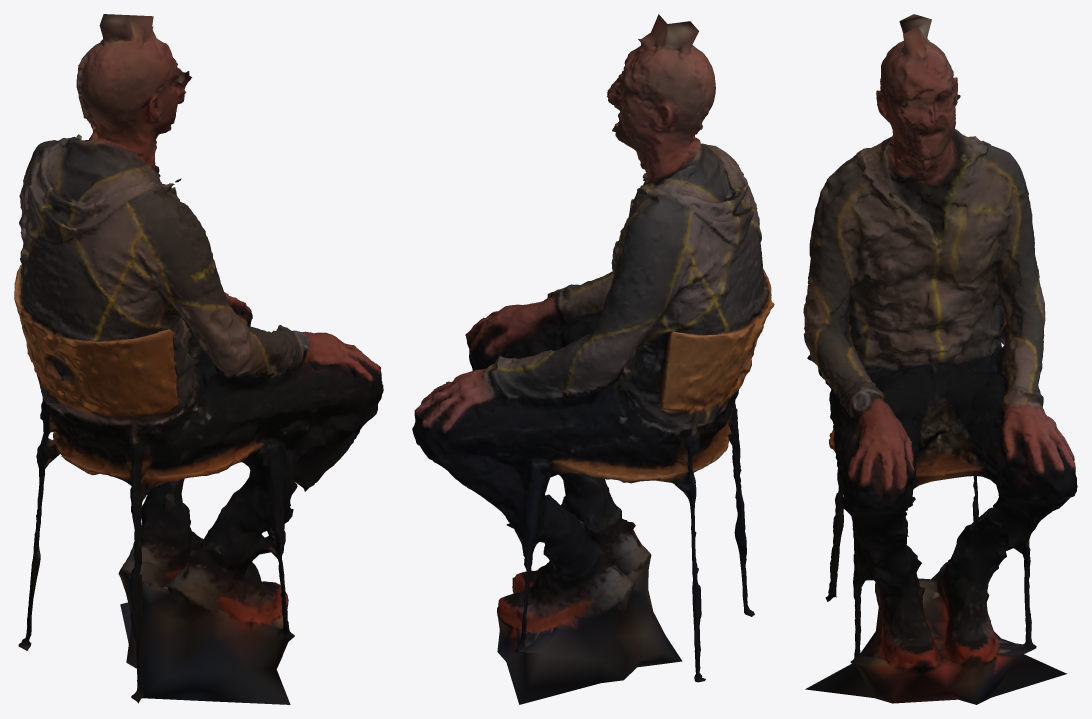
Rendered from asset.glb.
3 renders of one model, left to right at view 1: azimuth 30°, elevation 25°; view 2: azimuth 150°, elevation 25°; view 3: azimuth 270°, elevation 25°, orthographic. The views are drawn at different scales.
Parts seen in each view (by area): view 1: Mesh_0_Part_0; view 2: Mesh_0_Part_0; view 3: Mesh_0_Part_0.
Boxes of the visible parts, x1,y1,x2,y2 form: Mesh_0_Part_0: [14, 14, 383, 704]; Mesh_0_Part_0: [412, 14, 774, 704]; Mesh_0_Part_0: [803, 14, 1077, 704].
Size of the model in its own units: 9.21 by 18.54 by 7.42.
